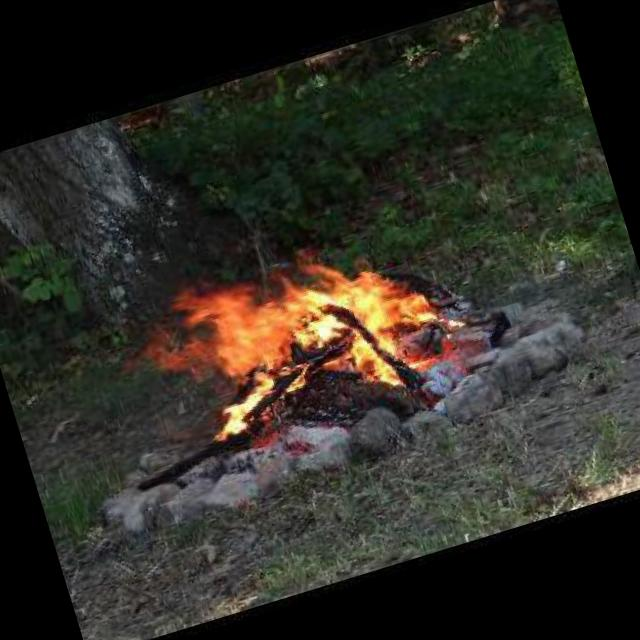fire: (104, 214, 463, 466)
